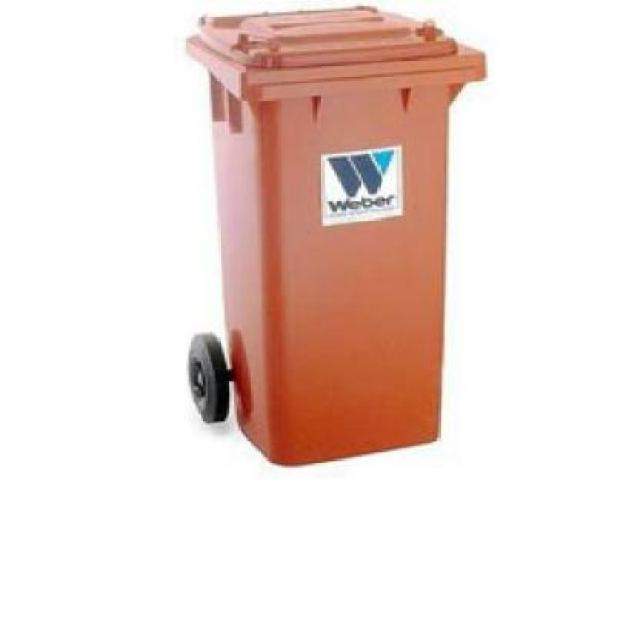garbage container: (159, 3, 501, 488)
